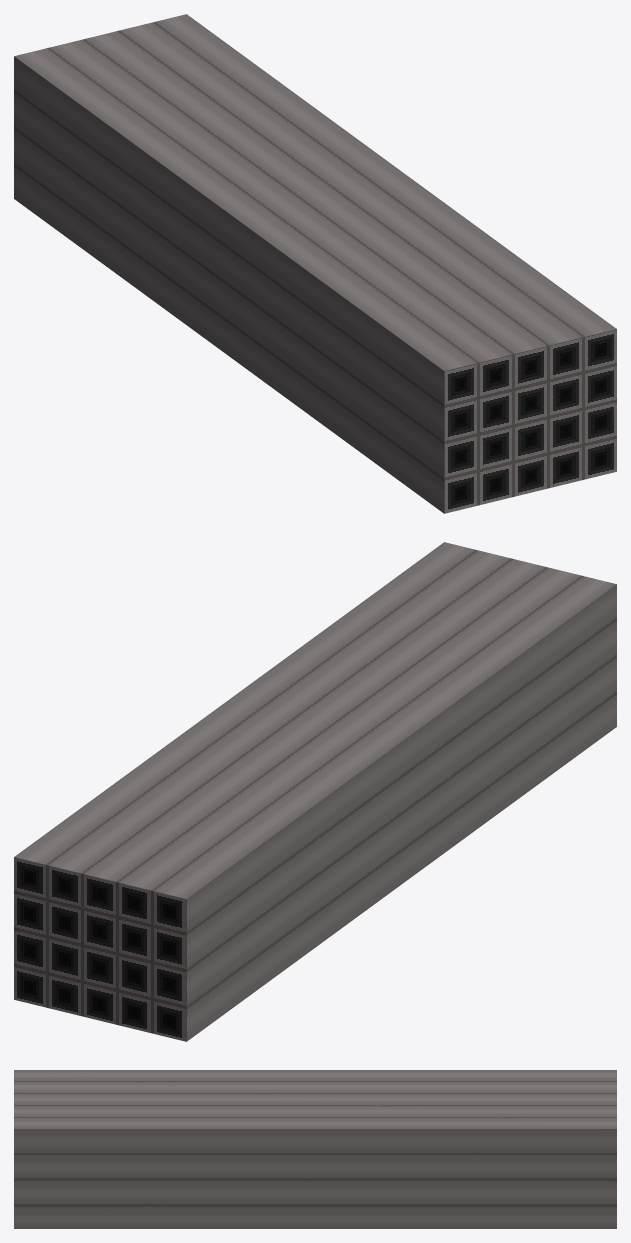
Rendered from BLOCKYGON_ PIPE(BIG).fbx.
3 views of the same model, one above another, from view 1: azimuth 30°, elevation 25°; view 2: azimuth 150°, elevation 25°; view 3: azimuth 270°, elevation 25° (orthographic). The views are drawn at different scales.
Parts seen in each view (by area): view 1: BLOCKYGON__PIPE_BIG_; view 2: BLOCKYGON__PIPE_BIG_; view 3: BLOCKYGON__PIPE_BIG_.
Part boxes in pixels (x1,y1,x2,y2): BLOCKYGON__PIPE_BIG_: [14, 14, 616, 513]; BLOCKYGON__PIPE_BIG_: [14, 542, 616, 1041]; BLOCKYGON__PIPE_BIG_: [14, 1070, 616, 1228].
Bounding box in the file's own units: 86.34 × 68.17 × 373.
